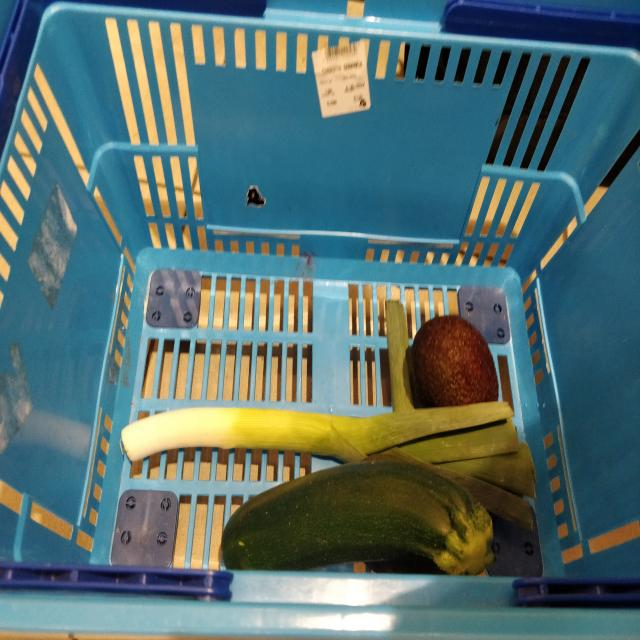Avocado: (409, 316, 502, 409)
Leek: (120, 402, 536, 527)
Yogurt cup: (219, 459, 497, 578)
